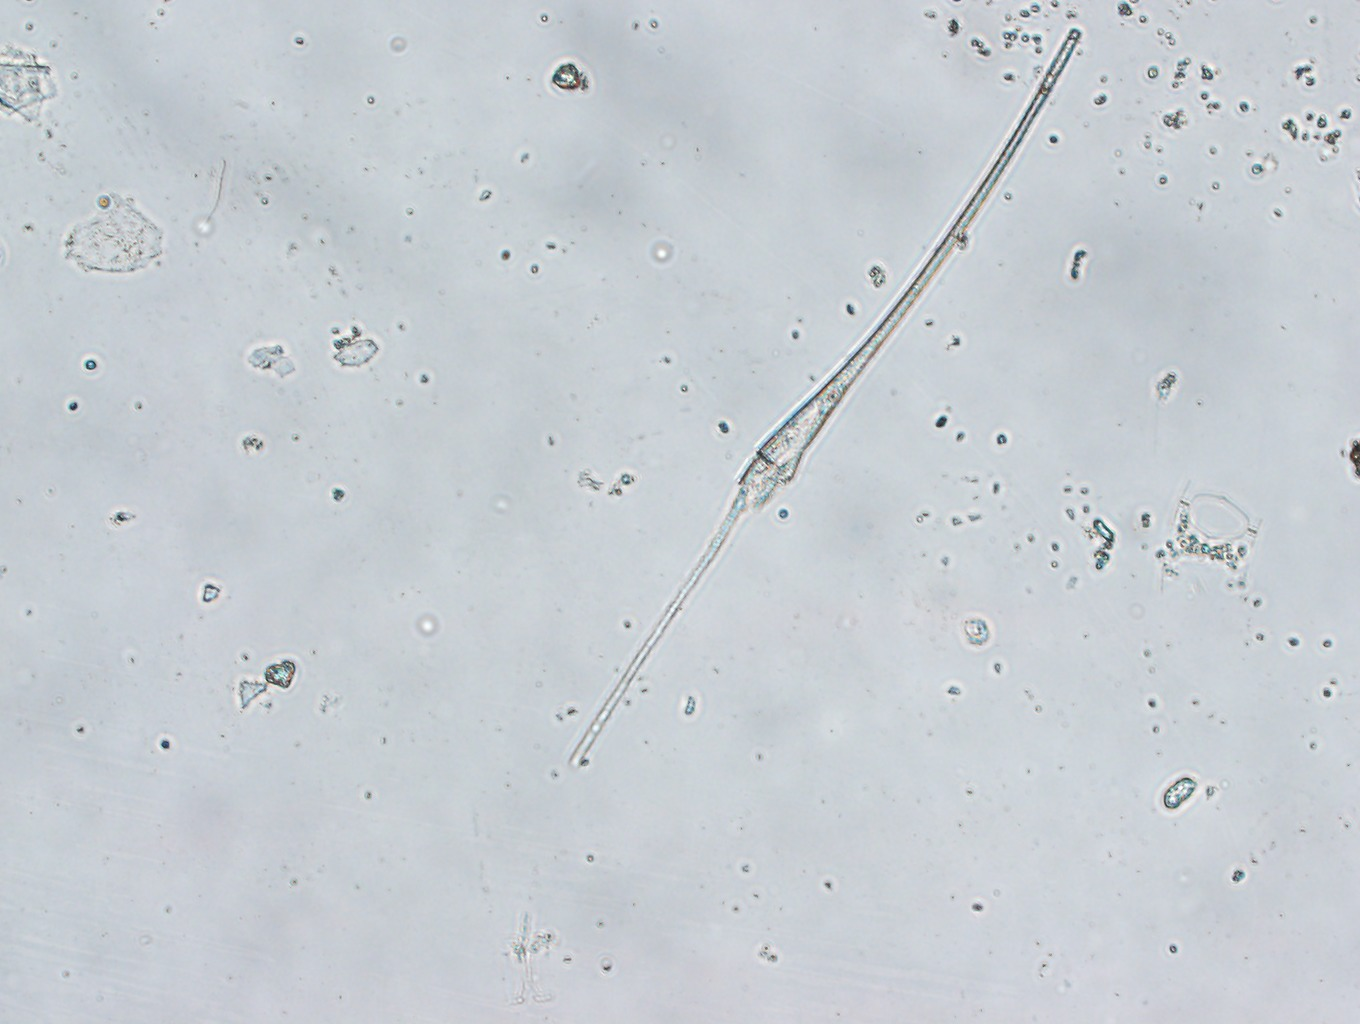ceratium fusus: (572, 23, 1089, 772)
eucampia: (1158, 475, 1263, 609)
